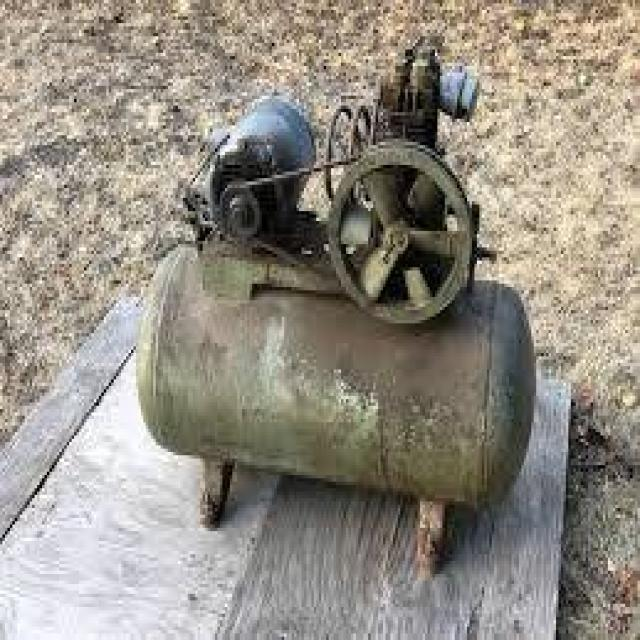compressor: (134, 33, 536, 581)
corrosion detected: (179, 294, 499, 473), (324, 136, 482, 324), (185, 89, 319, 251), (215, 178, 264, 244), (435, 56, 482, 122)
